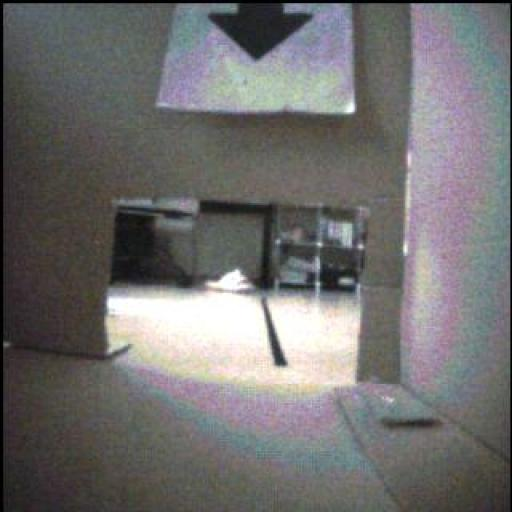arrow: (209, 4, 313, 60)
